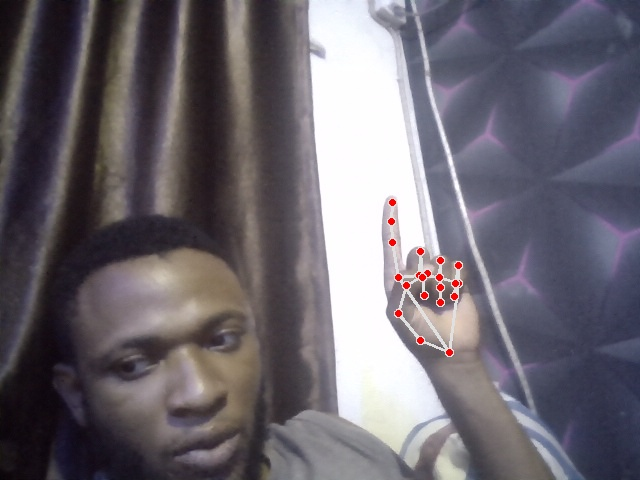number1: (383, 196, 483, 357)
